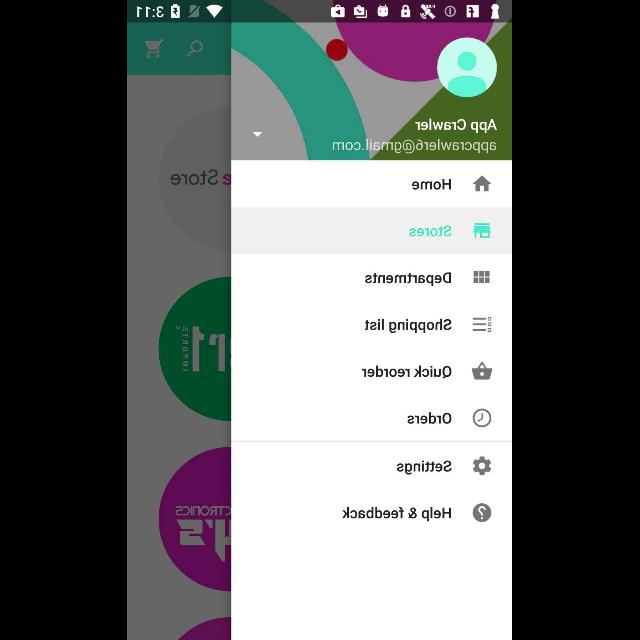icon: (438, 38, 498, 98), (473, 456, 492, 476), (473, 408, 492, 428), (472, 362, 493, 380), (473, 503, 492, 522), (473, 316, 492, 332), (473, 176, 492, 192), (474, 270, 491, 284), (253, 132, 263, 138)
image: (473, 223, 491, 239)
panel: (232, 22, 512, 640)
text: (333, 138, 497, 154), (342, 506, 452, 522), (366, 272, 452, 288), (366, 318, 452, 334), (416, 118, 498, 134), (362, 365, 452, 379), (398, 460, 452, 476), (408, 412, 452, 424), (410, 225, 452, 237), (412, 178, 452, 190)
uppertaskbar: (128, 1, 512, 23)
